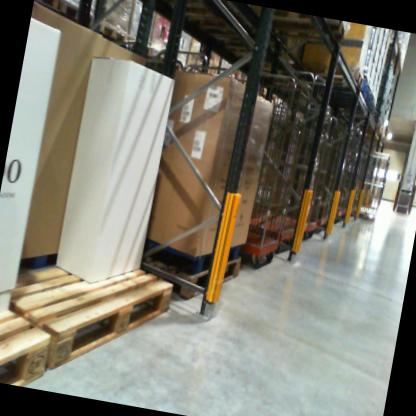pallet: (0, 236, 188, 380), (133, 230, 250, 319), (0, 296, 64, 386), (256, 8, 351, 47), (287, 54, 367, 96), (91, 7, 139, 52), (56, 0, 97, 35), (33, 0, 61, 12)
